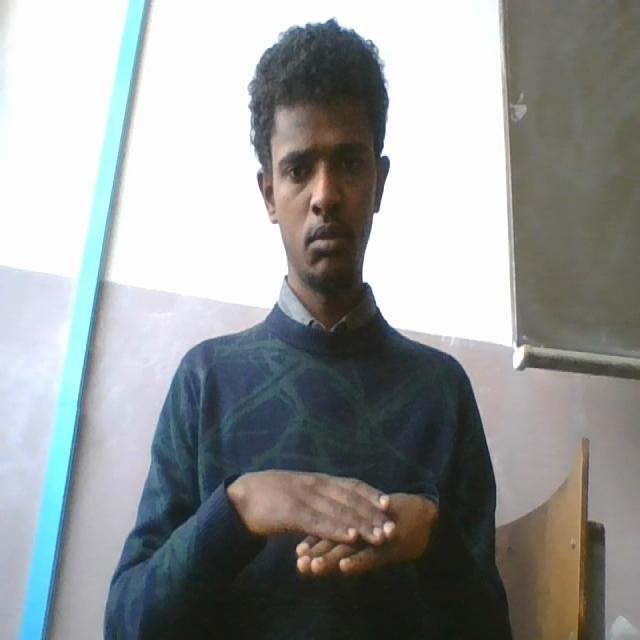lay: (245, 463, 424, 581)
